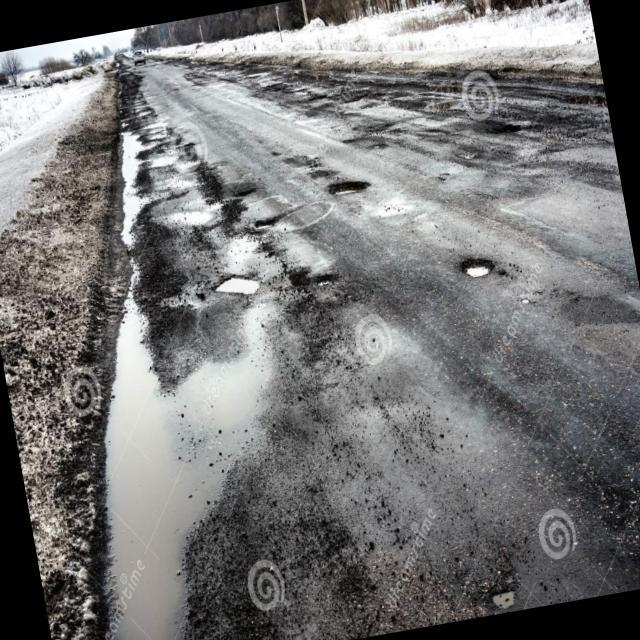Pothole: (202, 256, 270, 312), (452, 240, 506, 294), (478, 568, 524, 616), (322, 169, 374, 207), (308, 258, 342, 294), (249, 210, 286, 237)
